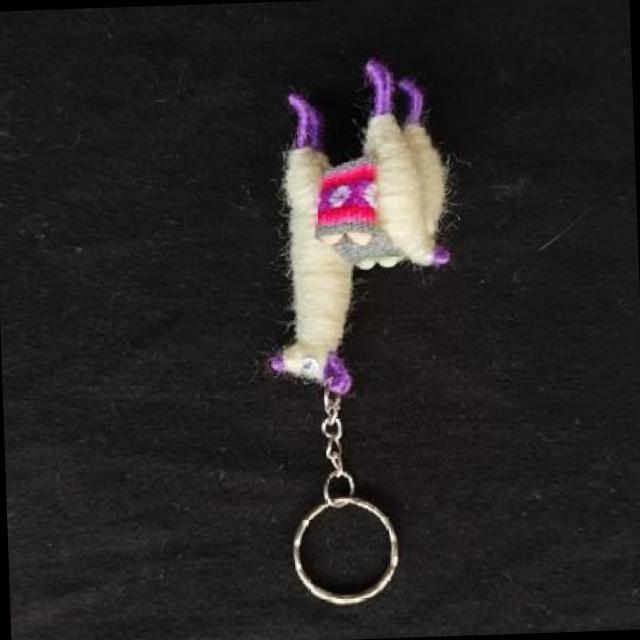Llavero: (256, 54, 459, 397)
